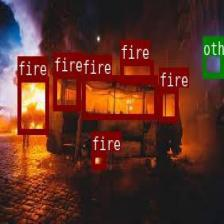fire: (82, 75, 156, 118), (17, 75, 48, 133), (53, 72, 80, 110), (120, 60, 153, 82), (158, 87, 177, 121), (91, 151, 105, 168)
